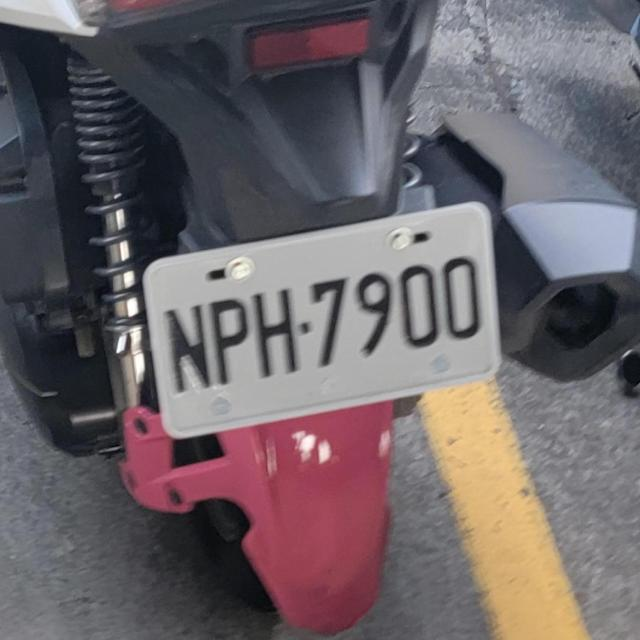W: (131, 188, 516, 452)
